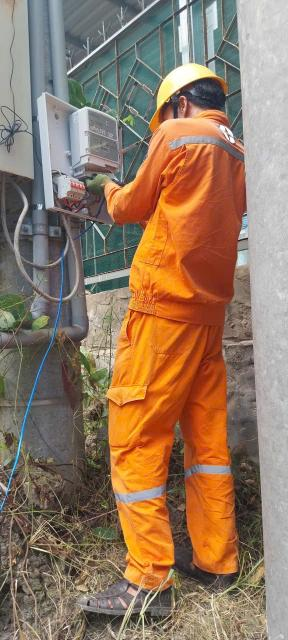gloves: (138, 50, 243, 138), (80, 167, 132, 211)
shoes: (72, 570, 188, 623), (167, 535, 240, 592)
